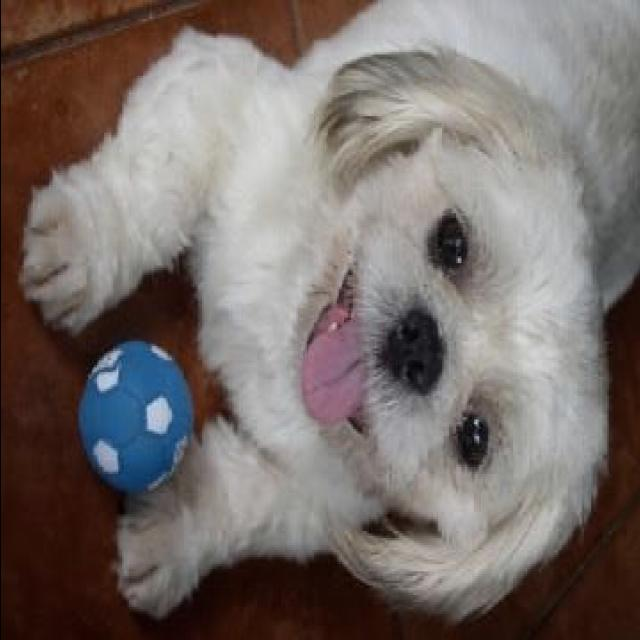shih_tzu: (16, 0, 633, 623)
